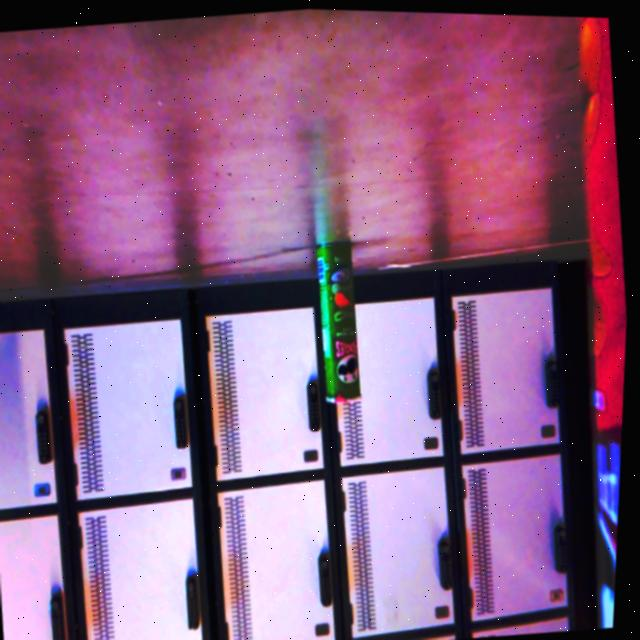greenpringles: (303, 241, 377, 405)
redpringles: (502, 12, 640, 628)
